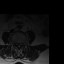CCS_stenosis: (18, 41, 19, 48)
LFS_stenosis: (21, 41, 23, 46)
LLS_normal: (19, 41, 21, 47)
RFS_stenosis: (14, 41, 16, 46)
RLS_stenosis: (16, 41, 18, 46)
